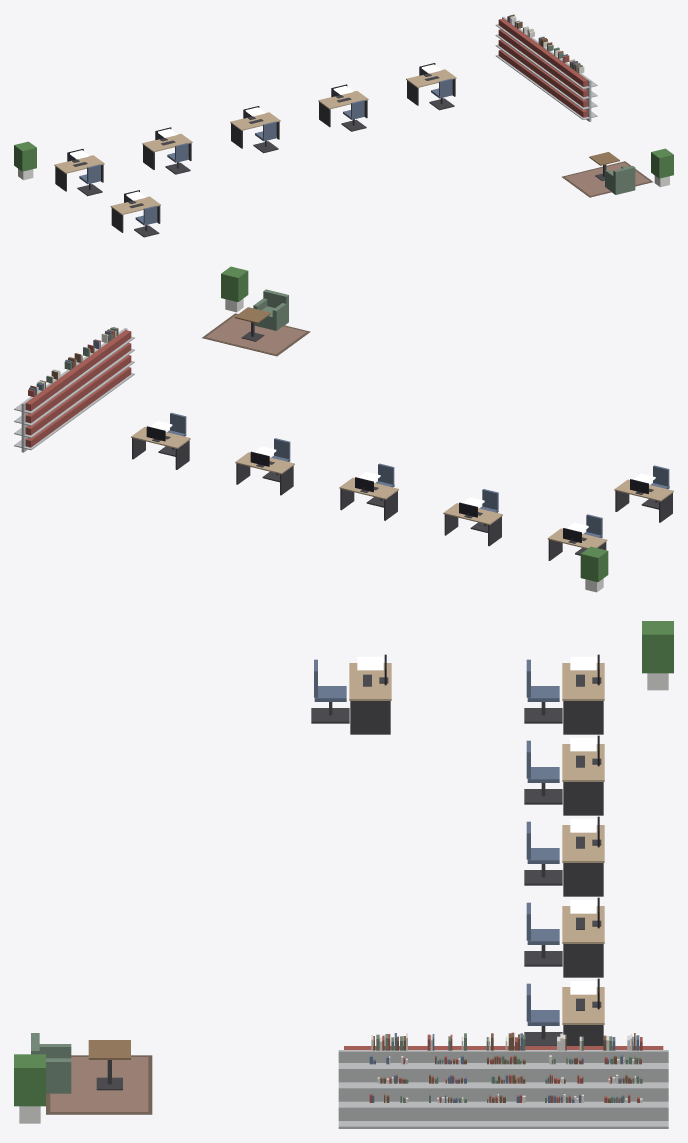
File: fine-s1.glb
The picture shows the model from 3 angles, top to bottom: view 1: azimuth 30°, elevation 25°; view 2: azimuth 150°, elevation 25°; view 3: azimuth 270°, elevation 25°; orthographic projection. The views are drawn at different scales.
Parts seen in each view (by area): view 1: soft-s1, shelving.004, shelving.000, shelving.003, office-desk-real.005, office-desk-real.004, office-desk-real.003, office-desk-real.001, office-desk-real.002, shelving.001, office-desk-real.000, sofa.000 (+10 smaller); view 2: soft-s1, shelving.000, shelving.004, shelving.003, office-desk-real.004, office-desk-real.002, office-desk-real.005, office-desk-real.001, office-desk-real.003, shelving.001, plant-medium.003, plant-medium.002 (+9 smaller); view 3: soft-s1, shelving.000, shelving.004, shelving.003, shelving.001, shelving.002, office-desk-real.000, office-desk-real.001, office-desk-real.002, office-desk-real.003, office-desk-real.005, office-desk-real.004 (+10 smaller).
Part boxes in pixels (x1,y1,x2,y2): soft-s1: (507, 14, 652, 197); shelving.004: (558, 64, 597, 121); shelving.000: (495, 16, 527, 73); shelving.003: (542, 51, 571, 108); office-desk-real.005: (110, 190, 160, 232); office-desk-real.004: (406, 63, 456, 105); office-desk-real.003: (318, 84, 368, 127); office-desk-real.001: (142, 127, 192, 169); office-desk-real.002: (230, 106, 280, 148); shelving.001: (511, 29, 541, 84); office-desk-real.000: (54, 149, 104, 191); sofa.000: (605, 165, 635, 194); soft-s1: (28, 313, 310, 396); shelving.000: (14, 383, 61, 452); shelving.004: (96, 328, 134, 395); shelving.003: (77, 342, 116, 409); office-desk-real.004: (131, 426, 190, 469); office-desk-real.002: (339, 477, 398, 520); office-desk-real.005: (614, 479, 673, 522); office-desk-real.001: (443, 502, 502, 546); office-desk-real.003: (235, 451, 294, 495); shelving.001: (46, 369, 79, 435); plant-medium.003: (580, 546, 608, 592); plant-medium.002: (221, 266, 248, 312); soft-s1: (46, 1032, 642, 1114); shelving.000: (573, 1046, 668, 1128); shelving.004: (338, 1046, 434, 1128); shelving.003: (397, 1046, 492, 1128); shelving.001: (514, 1046, 609, 1128); shelving.002: (455, 1046, 551, 1128); office-desk-real.000: (562, 654, 604, 734); office-desk-real.001: (562, 735, 604, 815); office-desk-real.002: (562, 816, 604, 896); office-desk-real.003: (562, 897, 604, 977); office-desk-real.005: (349, 654, 391, 734); office-desk-real.004: (562, 978, 604, 1045).
Size of the model in its own units: 20.26 by 1.93 by 12.4.
